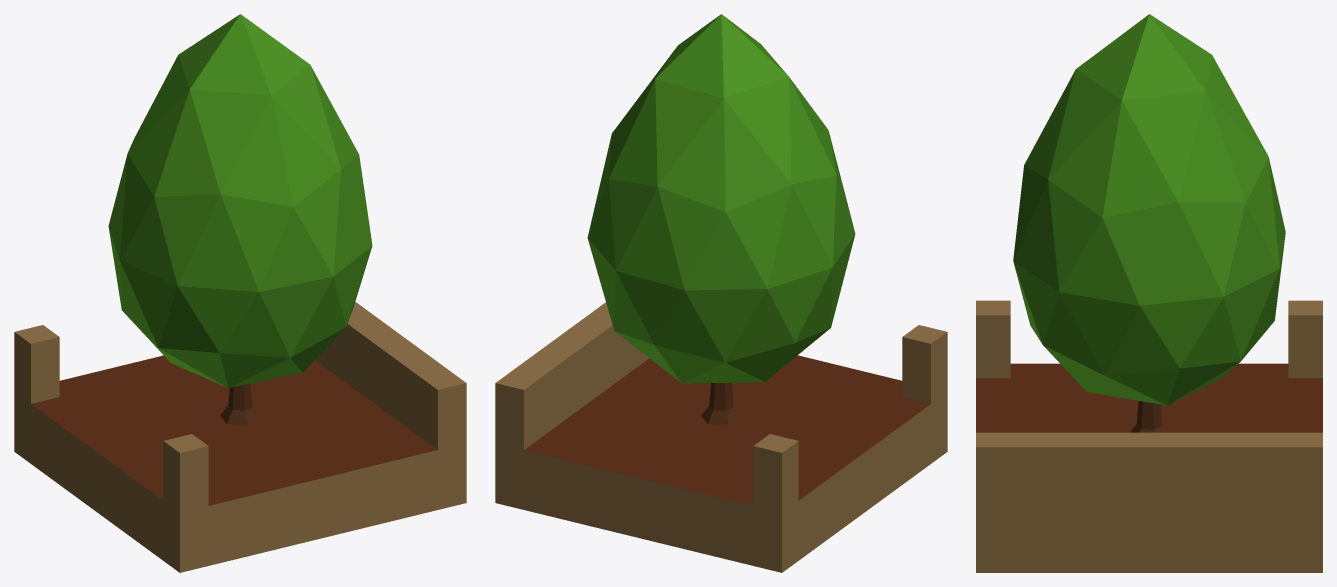
Rendered from Garden Bed T-Section.fbx.
3 renders of one model, left to right at view 1: azimuth 30°, elevation 25°; view 2: azimuth 150°, elevation 25°; view 3: azimuth 270°, elevation 25°, orthographic. The views are drawn at different scales.
Parts seen in each view (by area): view 1: Garden Bed T-Section; view 2: Garden Bed T-Section; view 3: Garden Bed T-Section.
Part boxes in pixels (left/top/right/bottom): Garden Bed T-Section: left=14, top=14, right=466, bottom=572; Garden Bed T-Section: left=495, top=14, right=947, bottom=572; Garden Bed T-Section: left=976, top=14, right=1322, bottom=572.
Bounding box in the file's own units: 100 × 155 × 100.
